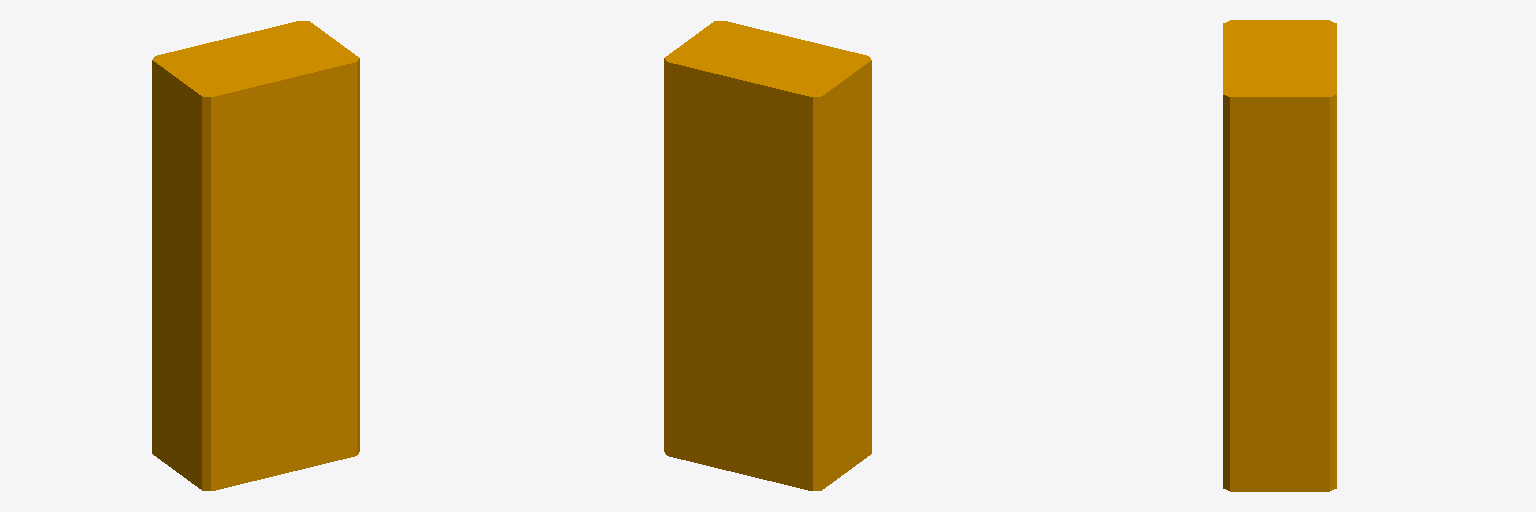
URDF robot description (factory_rectangular_peg_16mm_loose):
<?xml version="1.0"?>
<robot name="factory_rectangular_peg_16mm_loose">
    <link name="factory_rectangular_peg_16mm_loose">
        <visual>
            <geometry>
                <mesh filename="../mesh/factory_insertion/factory_rectangular_peg_32mm_loose_subdiv_3x.obj"/>
            </geometry>
        </visual>
        <collision>
            <geometry>
                <mesh filename="../mesh/factory_insertion/factory_rectangular_peg_32mm_loose_subdiv_3x.obj"/>
            </geometry>
            <!-- sdf resolution="256"-->
        </collision>
    </link>
</robot>

--- What the picture shows (computed from the rendered views, not written in the file) ---
The picture shows the robot from 3 angles, left to right: view 1: azimuth 30°, elevation 25°; view 2: azimuth 150°, elevation 25°; view 3: azimuth 270°, elevation 25°; orthographic projection.
Model factory_rectangular_peg_16mm_loose with 1 links and 0 joints (none), rooted at factory_rectangular_peg_16mm_loose, posed every joint at zero.
Links seen in each view (by area): view 1: factory_rectangular_peg_16mm_loose; view 2: factory_rectangular_peg_16mm_loose; view 3: factory_rectangular_peg_16mm_loose.
Boxes of the visible links, x1,y1,x2,y2 form: factory_rectangular_peg_16mm_loose: [152, 21, 359, 490]; factory_rectangular_peg_16mm_loose: [664, 21, 871, 490]; factory_rectangular_peg_16mm_loose: [1223, 20, 1336, 491].
Bounding box of the posed robot: 0.0319 × 0.0198 × 0.0762 m (x, y, z).
Meshes: 1 distinct files referenced, 1 mesh visuals loaded (1 OBJ).
